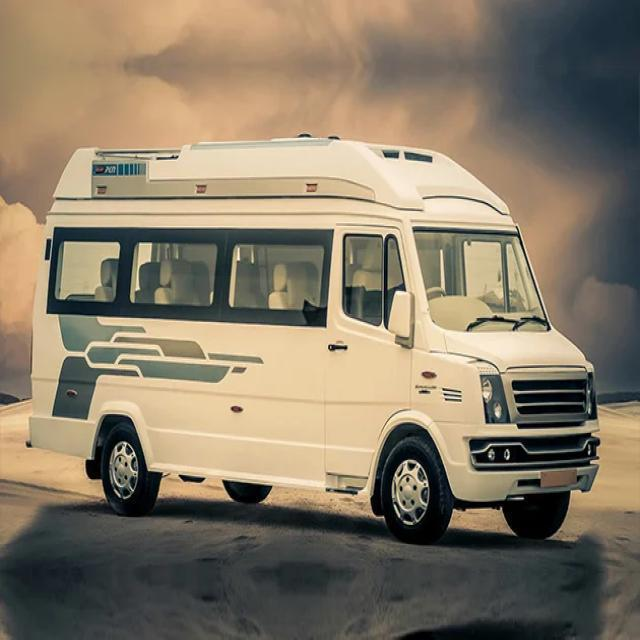Ambulance: (23, 128, 606, 548), (1, 393, 638, 638)
